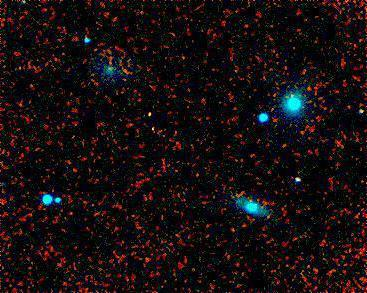star: (133, 111, 163, 141)
